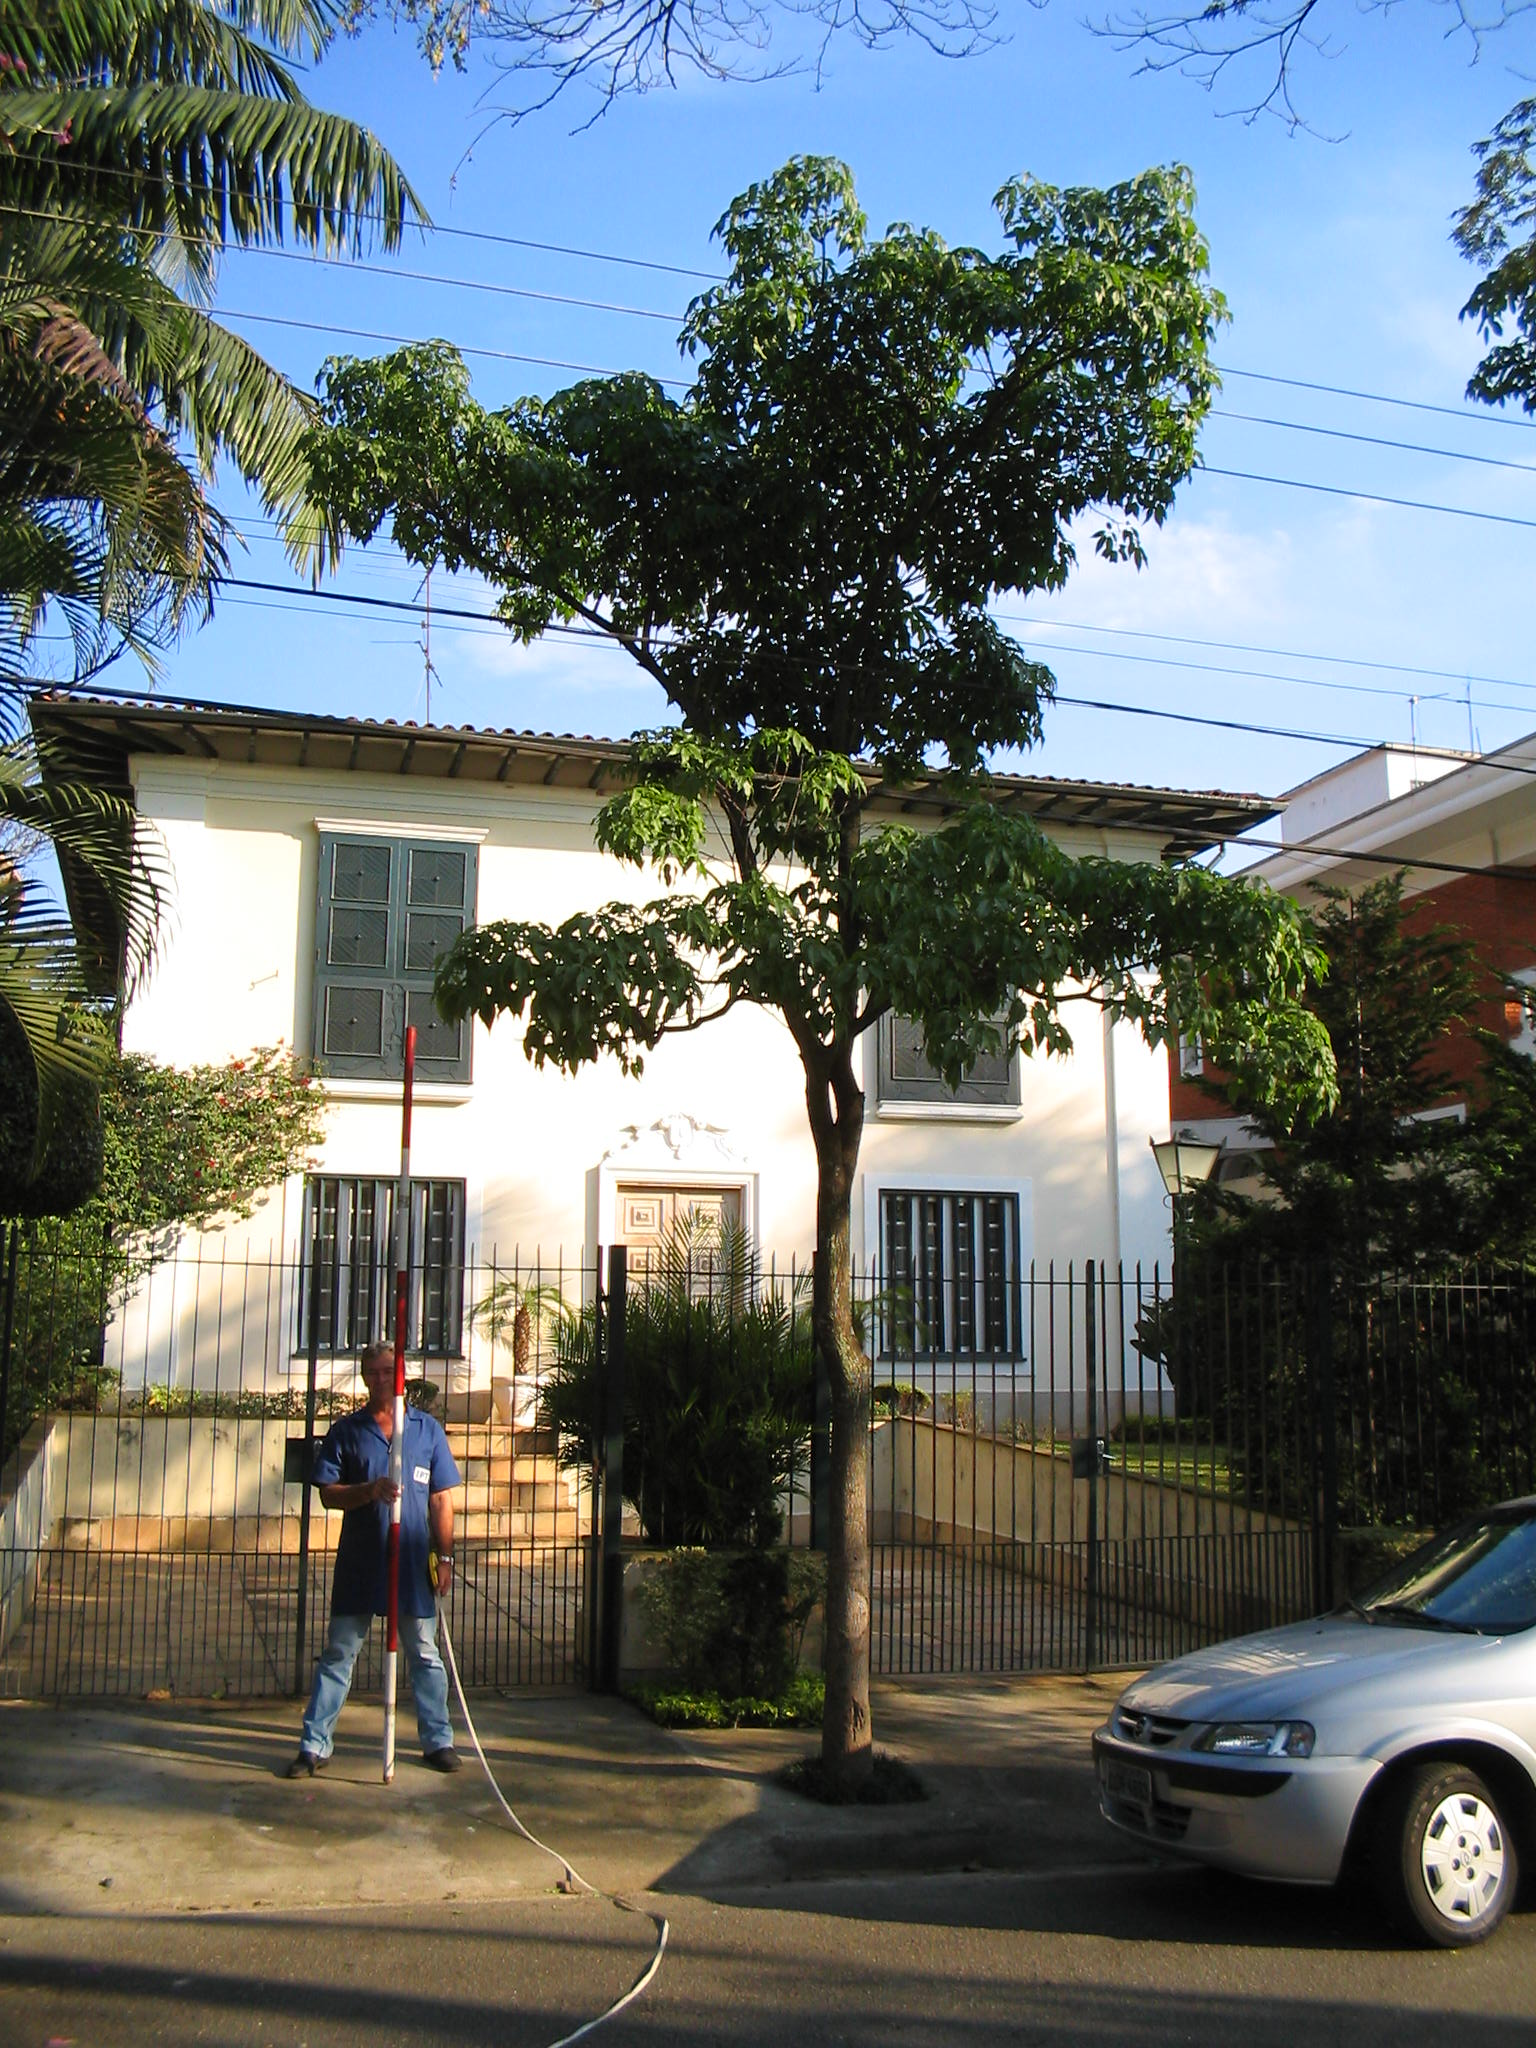crown: (289, 144, 1359, 1174)
stem: (744, 1129, 986, 1792)
stick: (344, 1029, 473, 1782)
tree: (278, 134, 1367, 1796)
